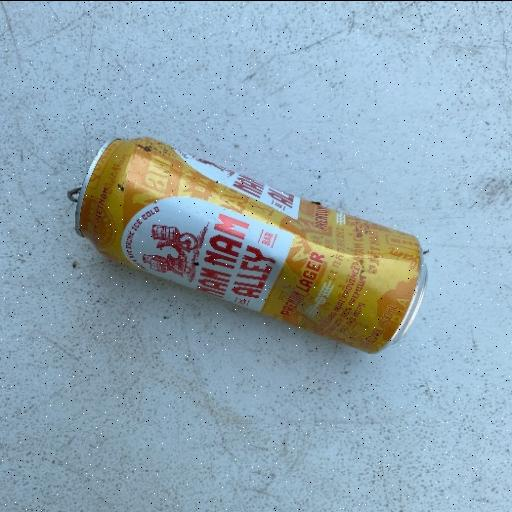Metal: (70, 135, 428, 356)
